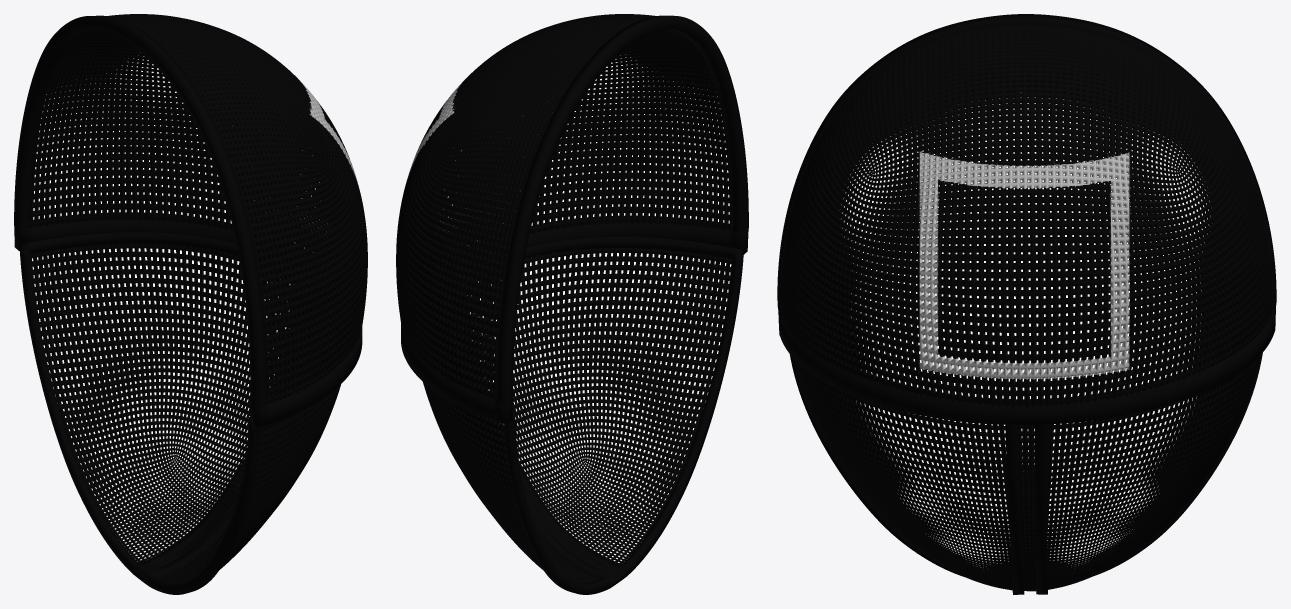
Rendered from masque-carre.glb.
The picture shows the model from 3 angles, left to right: view 1: azimuth 30°, elevation 25°; view 2: azimuth 150°, elevation 25°; view 3: azimuth 270°, elevation 25°; orthographic projection. The views are drawn at different scales.
Parts seen in each view (by area): view 1: Cube.001, Cube.005, Cube.003, Cube.004, Cube.009, Cube.002; view 2: Cube.001, Cube.009, Cube.003, Cube.004, Cube.005, Cube.002; view 3: Cube.001, Cube.005, Cube.009, Cube.003, Cube.004, Cube.002.
Boxes of the visible parts, x1,y1,x2,y2 form: Cube.001: (30,14,367,404); Cube.005: (30,243,299,563); Cube.003: (14,15,362,427); Cube.004: (20,231,314,594); Cube.009: (160,384,340,583); Cube.002: (131,279,317,582); Cube.001: (396,14,732,400); Cube.009: (460,247,732,565); Cube.003: (401,15,748,423); Cube.004: (453,236,743,594); Cube.005: (423,382,599,583); Cube.002: (446,282,626,585); Cube.001: (781,24,1272,408); Cube.005: (1047,356,1259,589); Cube.009: (792,357,1012,590); Cube.003: (777,14,1276,424); Cube.004: (789,353,1262,594); Cube.002: (1018,424,1049,591).
Bounding box in the file's own units: 4.19 × 10.93 × 8.73.
Materials: 3 (1 with a texture image).
